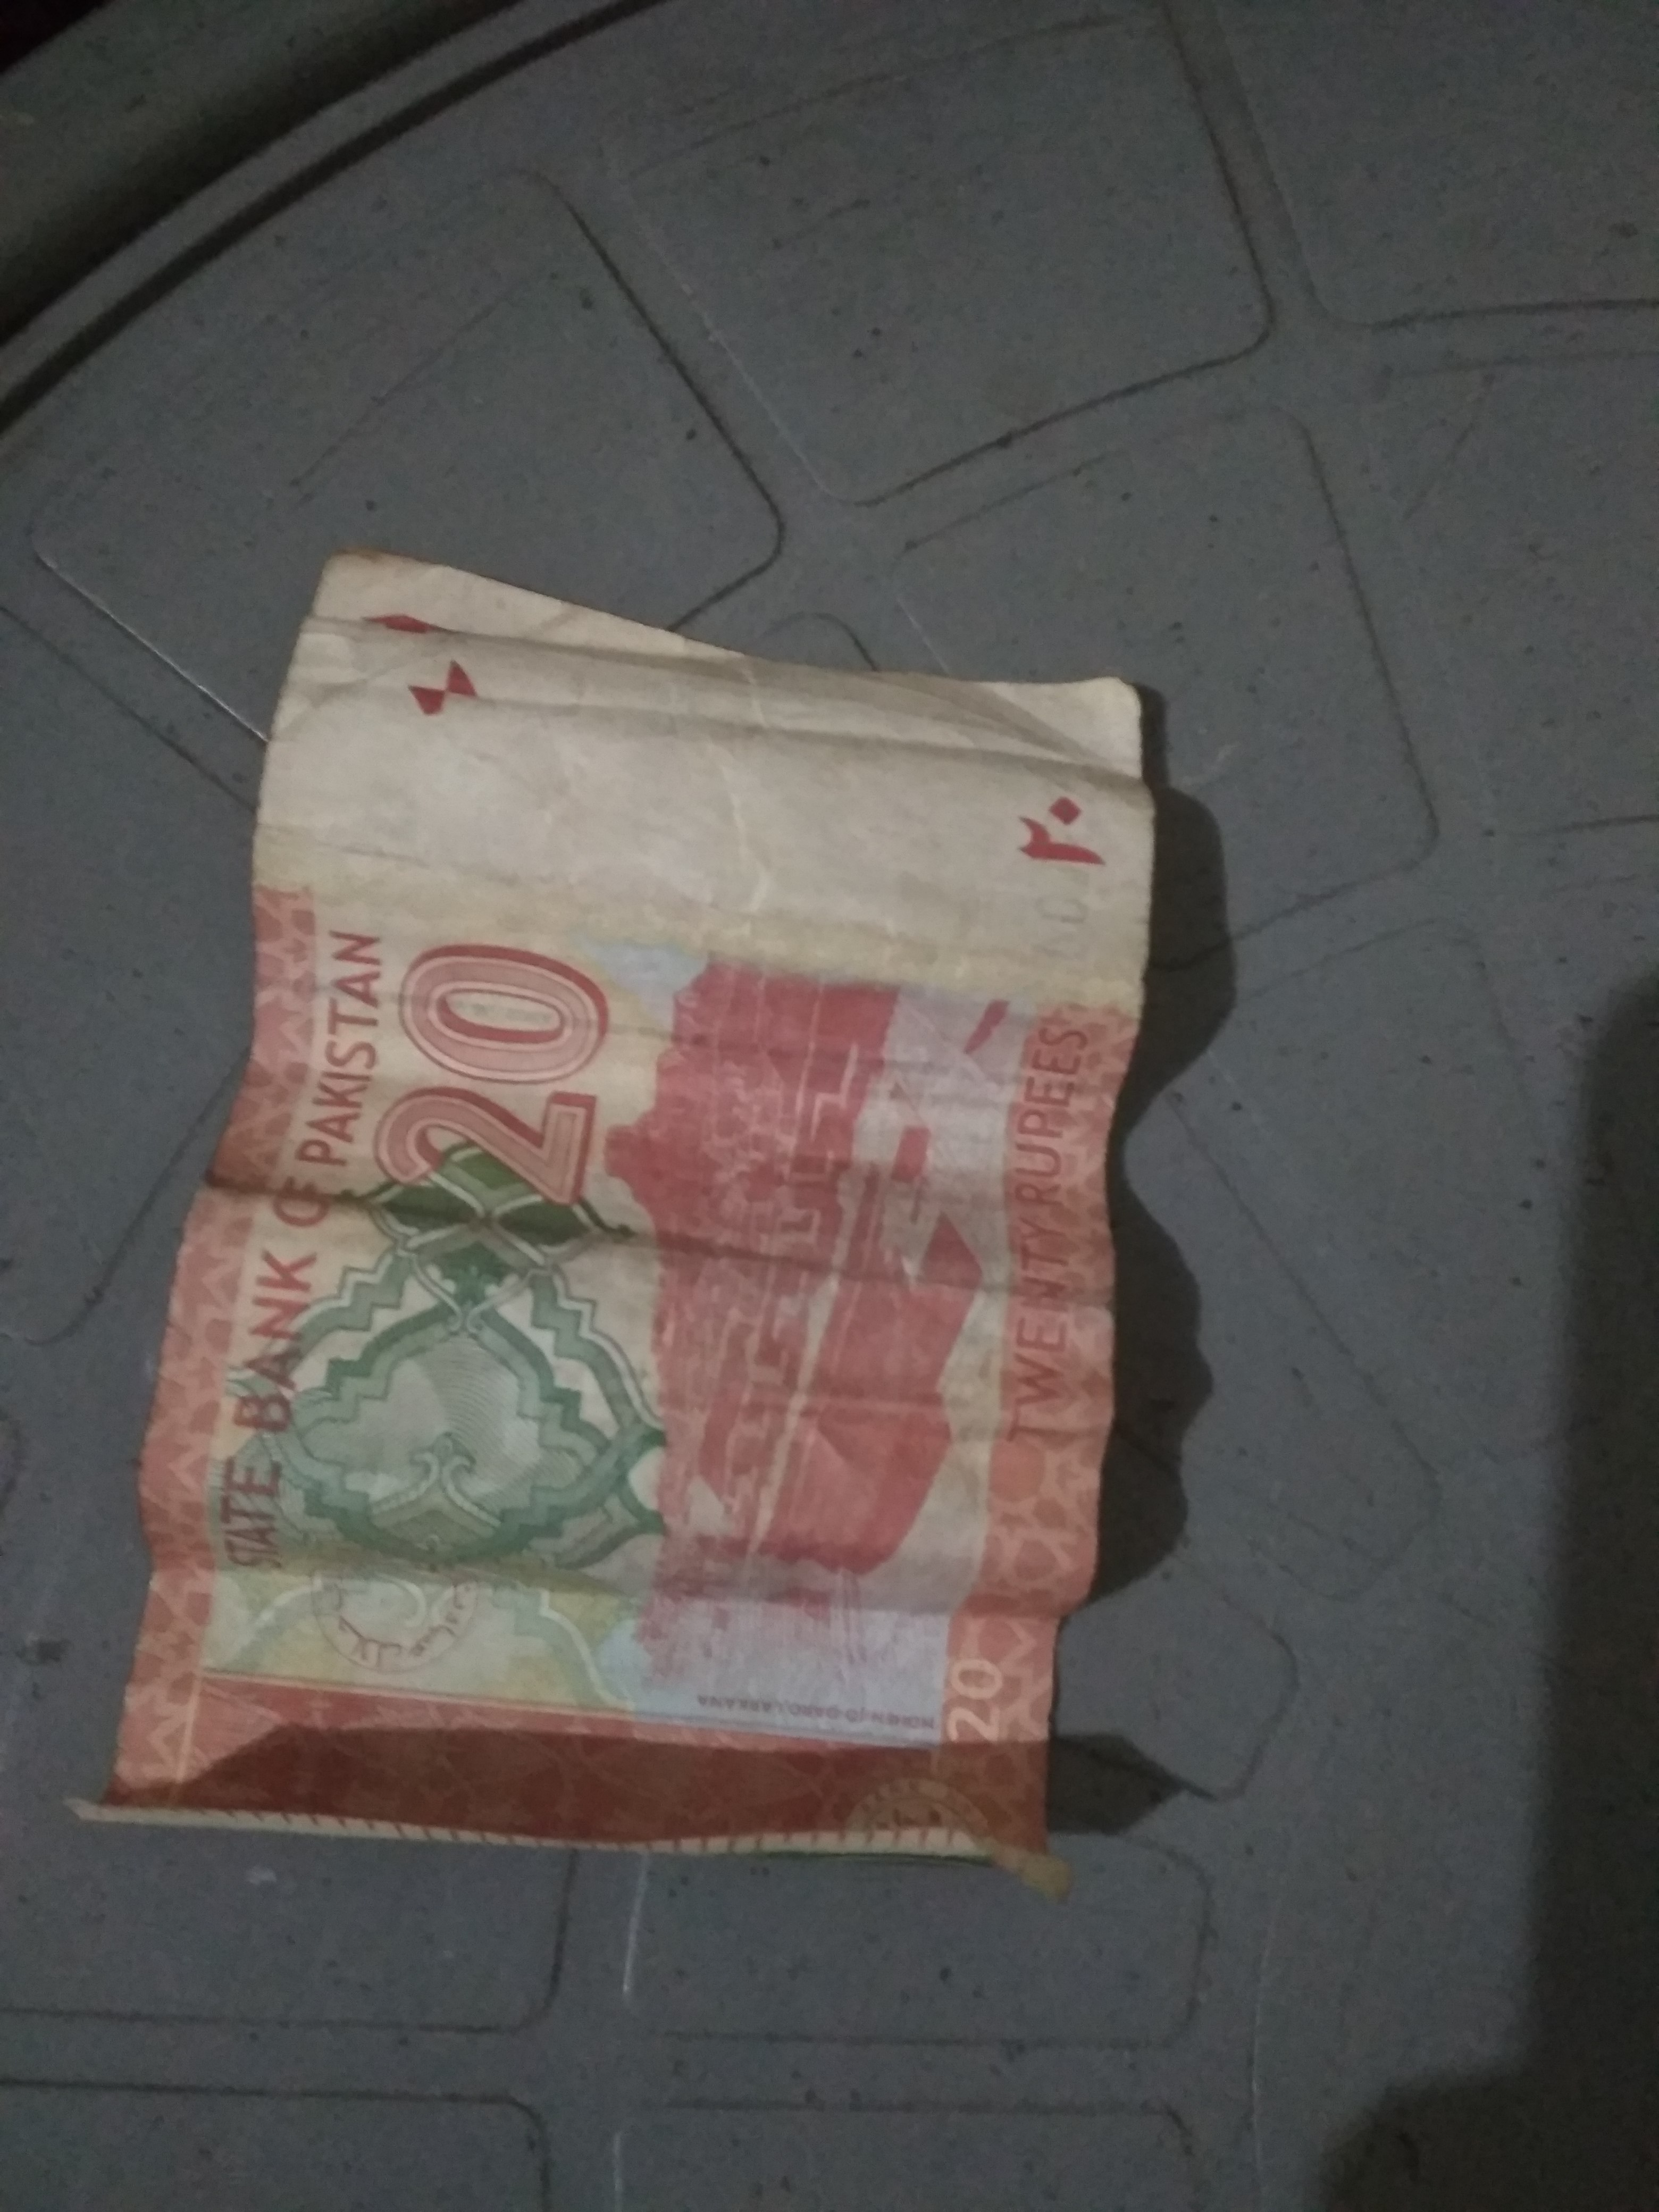20 rupee: (124, 475, 1234, 2080)
